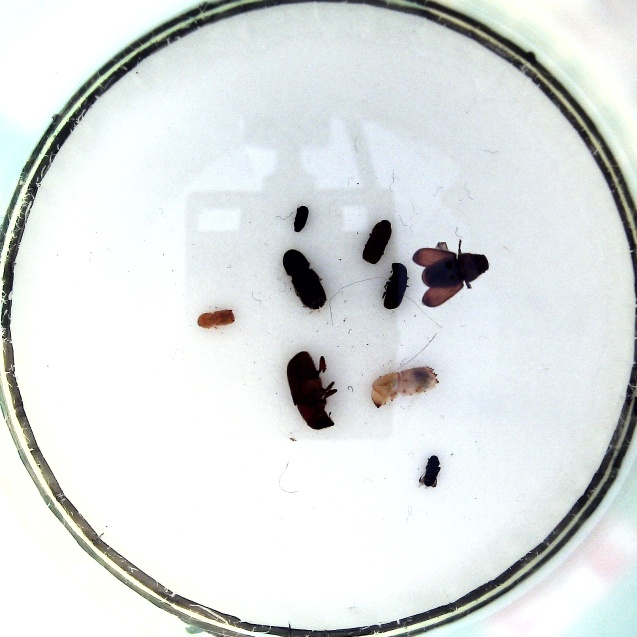acuminatus: (195, 305, 238, 331)
armandi: (379, 259, 412, 311)
boerner: (366, 364, 443, 408)
coleoptera: (415, 454, 445, 490), (291, 203, 312, 234)
leconte: (411, 239, 492, 310), (283, 347, 340, 431), (279, 246, 331, 314)
linnaeus: (360, 218, 393, 265)
